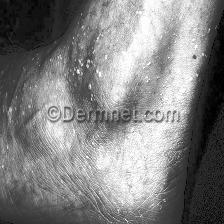Benign Marking or Mole: (76, 16, 113, 95), (0, 64, 42, 104), (188, 17, 208, 83)
